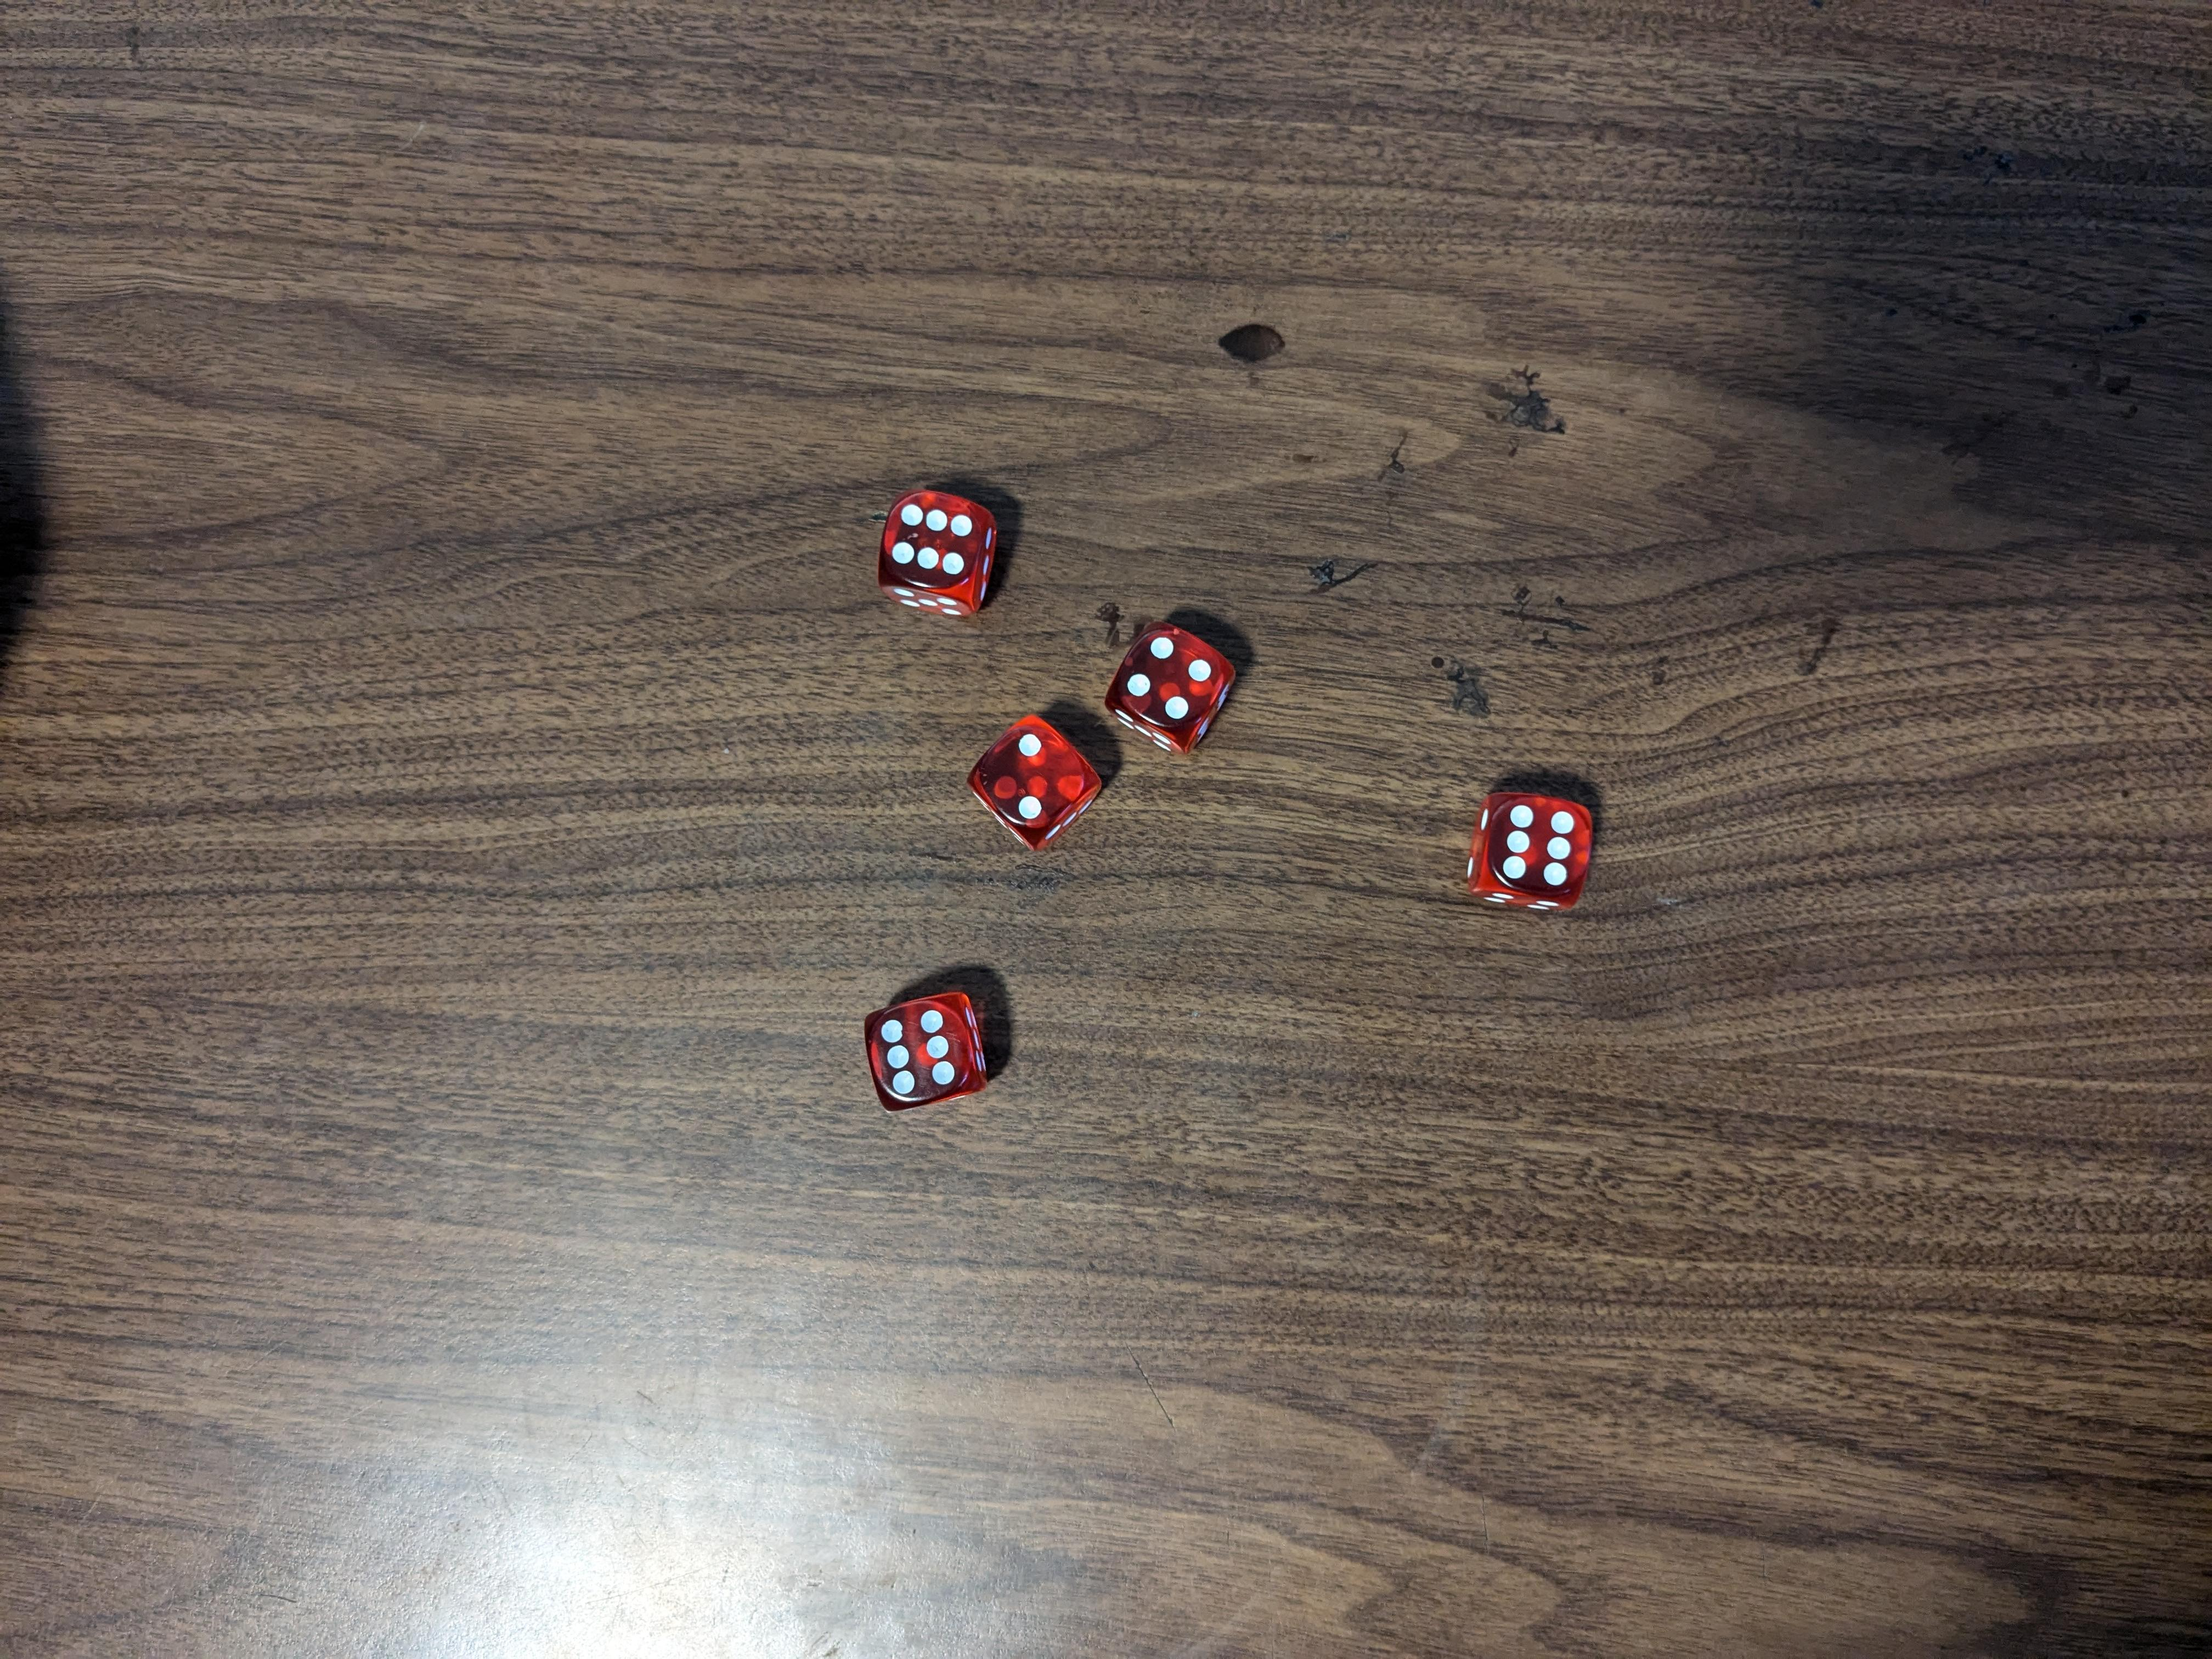four: (1101, 615, 1238, 749)
six: (878, 483, 1003, 622), (1458, 786, 1597, 910), (867, 979, 995, 1112)
two: (965, 709, 1104, 842)
